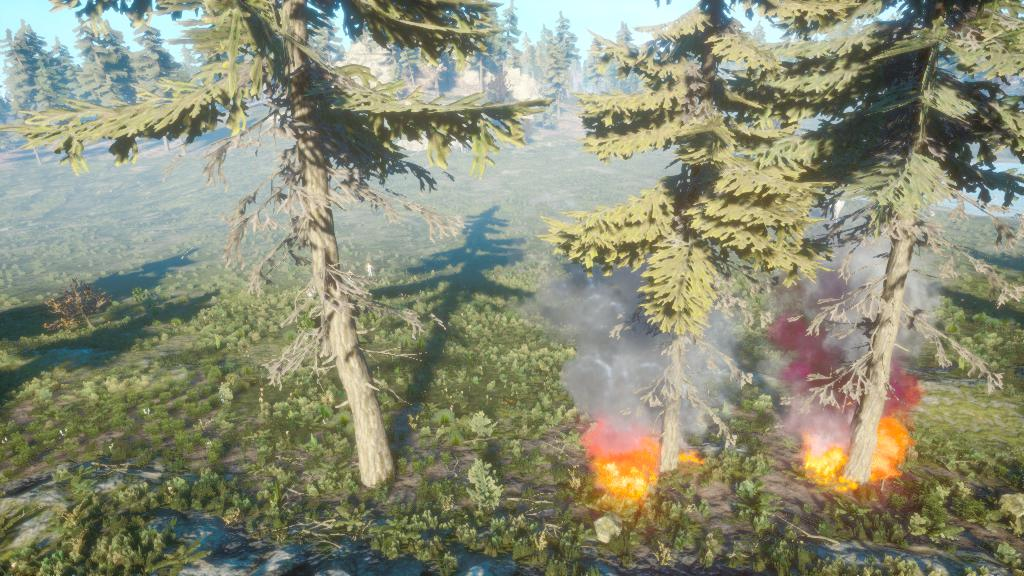Fire: (589, 428, 702, 510), (803, 412, 909, 498)
human: (360, 259, 379, 283)
smoke: (561, 200, 773, 452), (789, 157, 944, 450)
